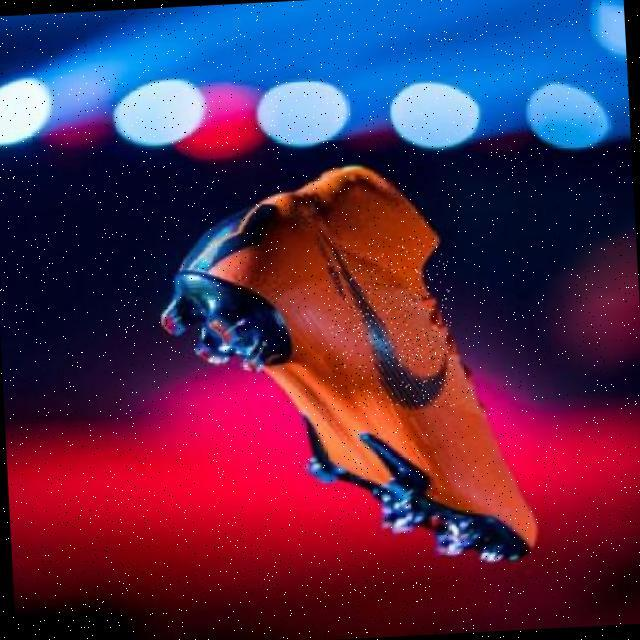Nike: (325, 235, 456, 413)
